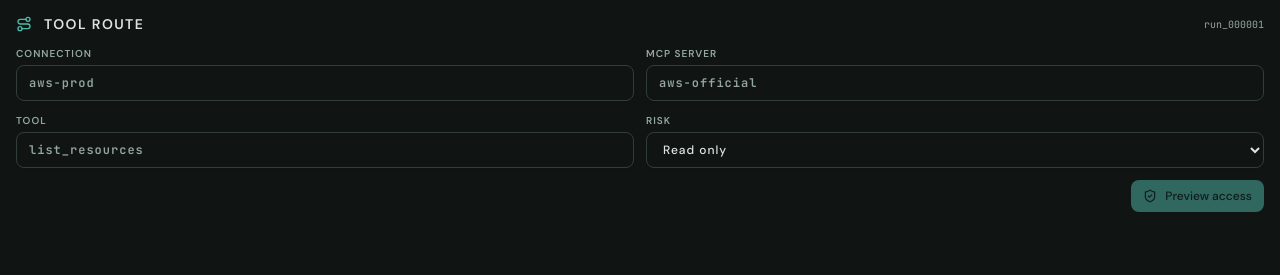
Test: ToolRoutePreviewPanel › fails closed when the preview response is contradictory
Type "  aws-prod  " into the field labelled "Connection" at [325, 83], box [16,65,634,101]
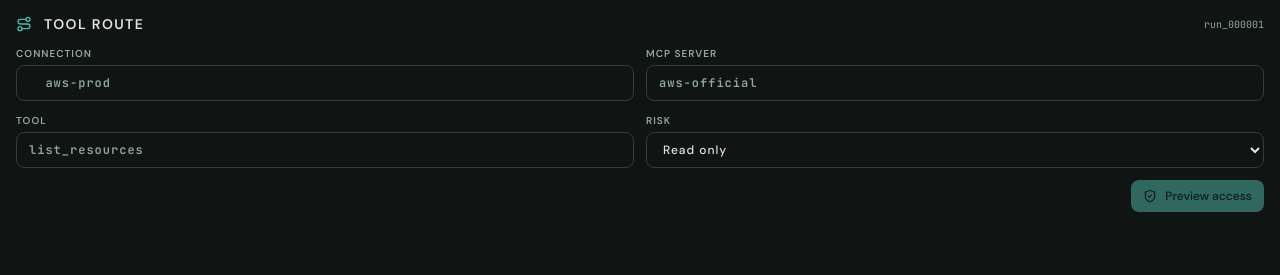
Type " aws-official " into the field labelled "MCP server" at [955, 83], box [646,65,1264,101]
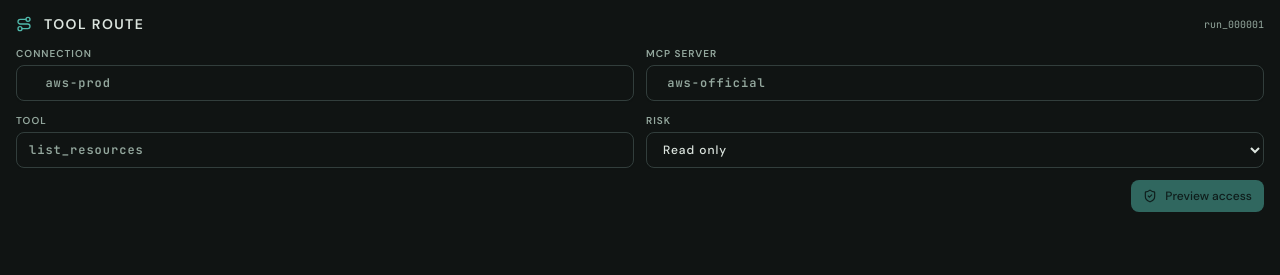
Type " list_resources " into the field labelled "Tool" at [325, 150], box [16,132,634,168]
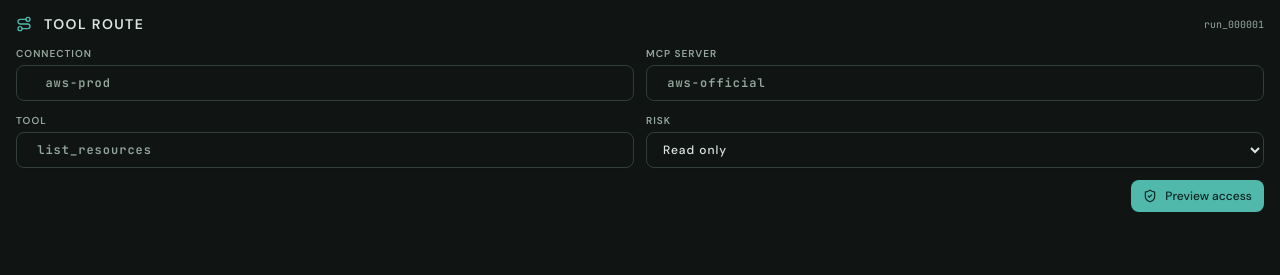
Click the button "Preview access" at [1198, 196], box [1131,180,1264,212]
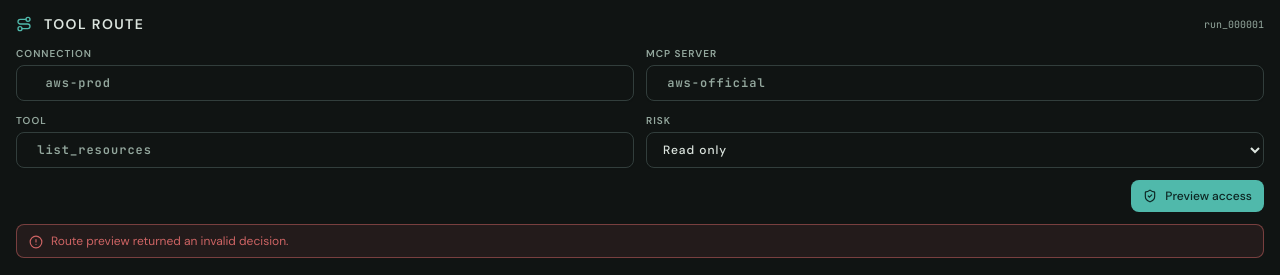
Expected: the message reads "Route preview returned an invalid decision.", [51,233,288,249]
